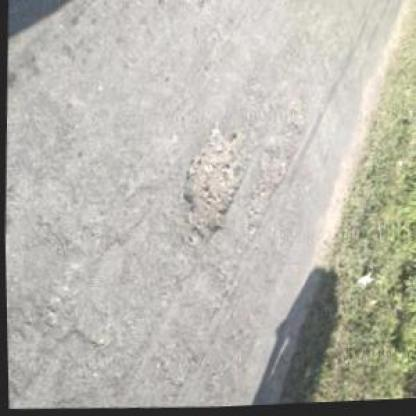pothole: (178, 123, 250, 254), (241, 142, 291, 237), (283, 98, 306, 138)
